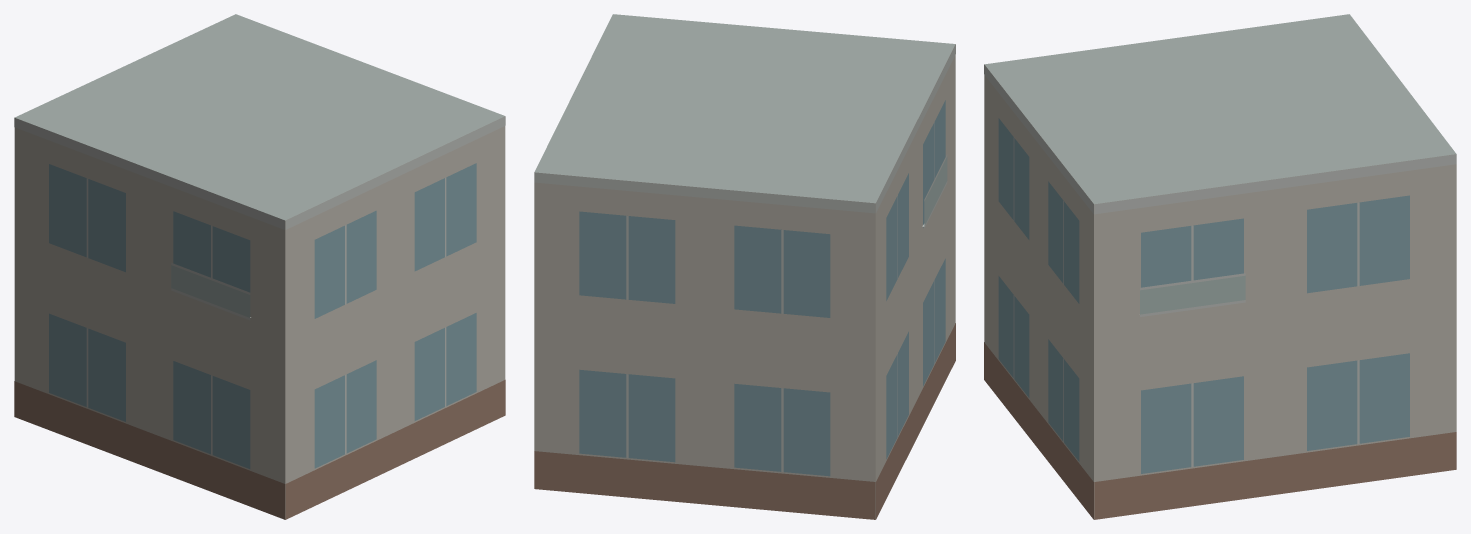
Rendered from survey-upis-32607938.glb.
3 renders of one model, left to right at view 1: azimuth 30°, elevation 25°; view 2: azimuth 150°, elevation 25°; view 3: azimuth 270°, elevation 25°, orthographic. The views are drawn at different scales.
Parts seen in each view (by area): view 1: survey-upis-32607938.tmp; view 2: survey-upis-32607938.tmp; view 3: survey-upis-32607938.tmp.
Part boxes in pixels (box(x1,y1,x2,y2)): survey-upis-32607938.tmp: box(14, 14, 505, 519); survey-upis-32607938.tmp: box(534, 14, 955, 519); survey-upis-32607938.tmp: box(984, 14, 1456, 519).
Size of the model in its own units: 9.84 by 7.6 by 10.32.
